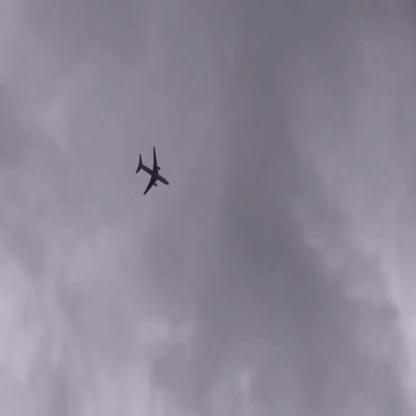CIV_Plane: (134, 146, 170, 196)
